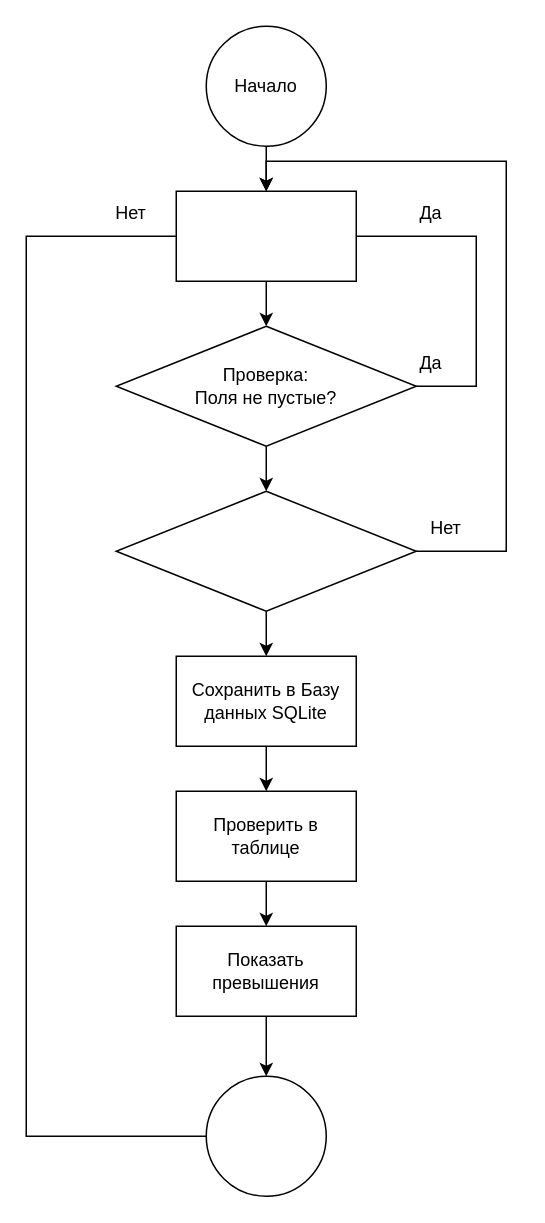
This 545x1223 diagram has some shape labels left out. The centre of each missing label's shape, as x and y in pixels:
"Ввод суммы и категорий" goes at pixel 265 235.
"Конец" goes at pixel 265 1135.
"Проверка: Сумма - число?" goes at pixel 265 550.
